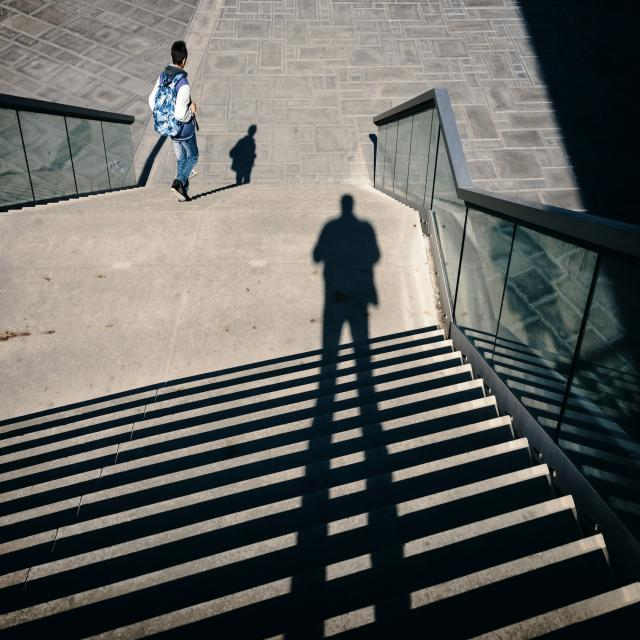adult: (147, 43, 200, 203)
